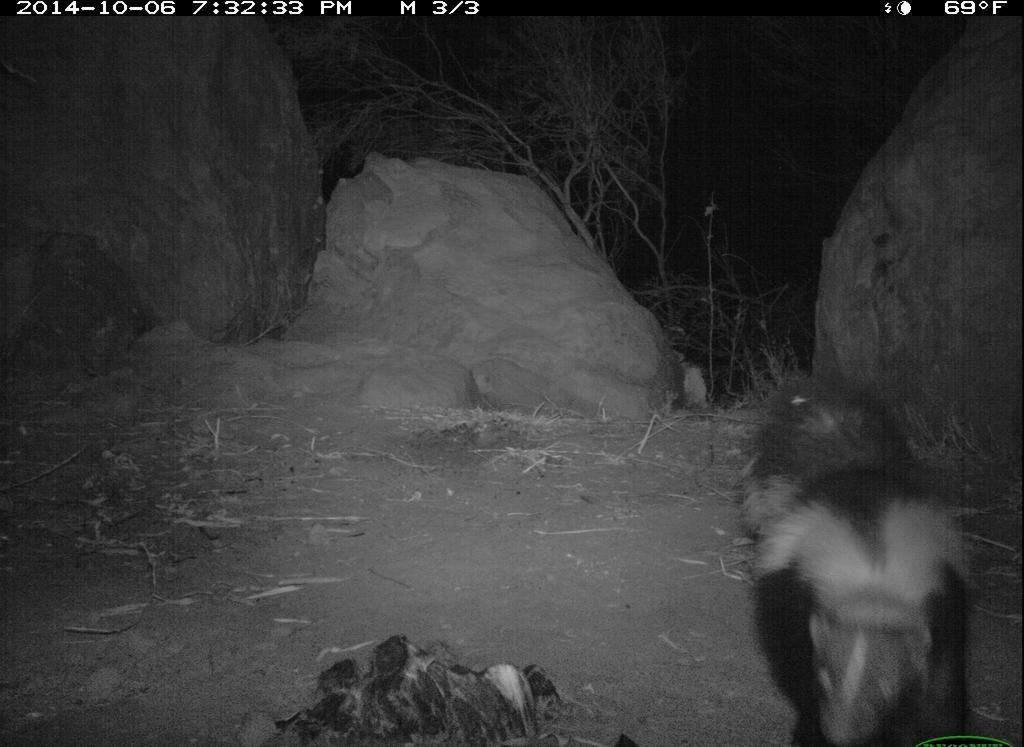skunk: (726, 365, 984, 747)
